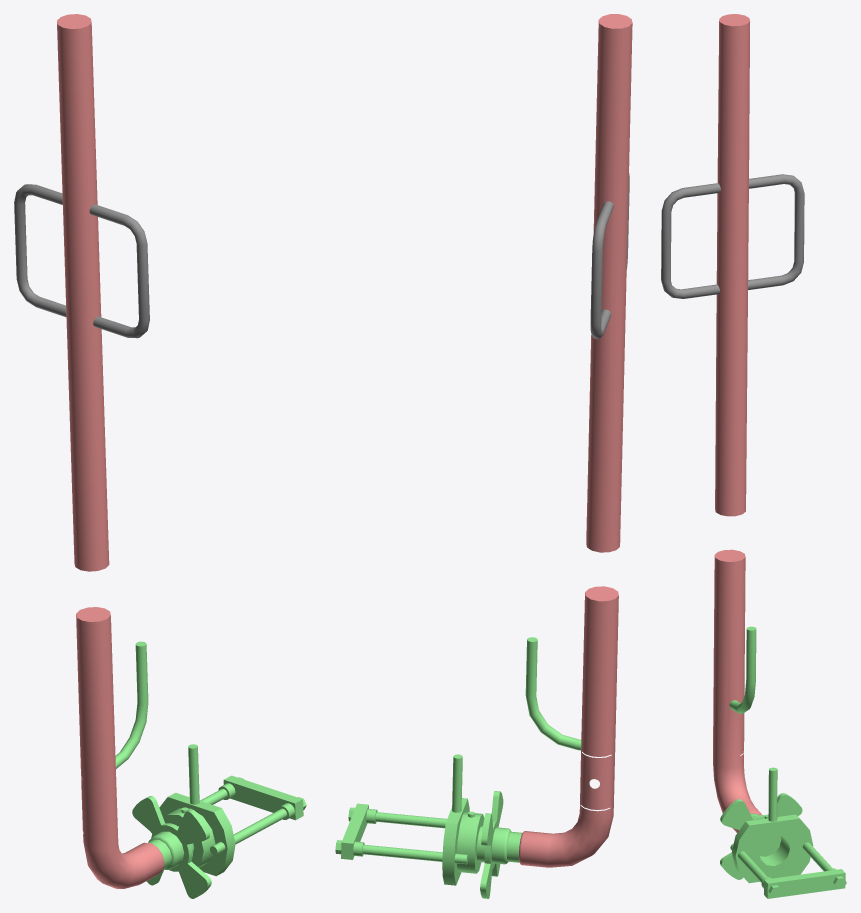
The model's file is SM_SUG_All_Left_04.gltf.
3 renders of one model, left to right at view 1: azimuth 30°, elevation 25°; view 2: azimuth 150°, elevation 25°; view 3: azimuth 270°, elevation 25°, orthographic. The views are drawn at different scales.
Parts seen in each view (by area): view 1: SM_SUG_All_Left_04; view 2: SM_SUG_All_Left_04; view 3: SM_SUG_All_Left_04.
Part boxes in pixels (x1=…): SM_SUG_All_Left_04: x1=14, y1=14, x2=306, y2=898; SM_SUG_All_Left_04: x1=335, y1=14, x2=632, y2=898; SM_SUG_All_Left_04: x1=661, y1=14, x2=846, y2=898.
Bounding box in the file's own units: 0.3915 × 1.23 × 0.2576.
